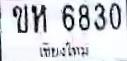0: (108, 2, 120, 29)
3: (93, 2, 106, 30)
6: (61, 3, 74, 30)
8: (78, 3, 89, 30)
A02: (11, 4, 28, 33)
A41: (31, 4, 46, 32)
CMI: (34, 39, 91, 57)
